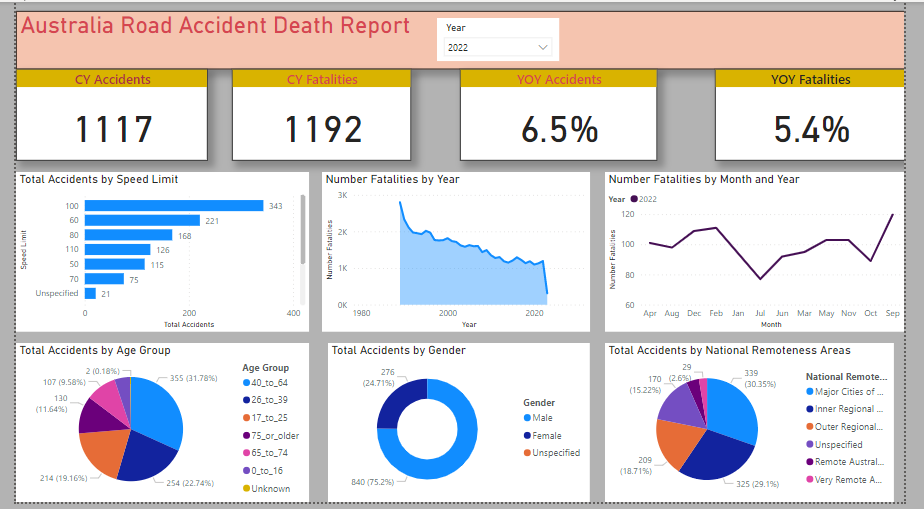

The page's visual inventory and layout, read from the dashboard file:
{"tool":"powerbi","page":{"name":"Year","canvas":[1280,720],"ordinal":0},"visuals":[{"type":"textbox","title":"Australia  Road Accident Death Report","box":[0,13.4,1280,84],"z":0},{"type":"slicer","fields":{"Values":["NewCalendar.Year"]},"box":[606.2,23,175.7,61.9],"z":1000},{"type":"card","title":"CY Accidents","fields":{"Values":["Measures (2).CY Accidents"]},"box":[0,96.5,276.5,132.5],"z":2000},{"type":"card","title":"CY Fatalities","fields":{"Values":["Measures (2).CY Fatalities"]},"box":[311,96.5,257.8,132.5],"z":3000},{"type":"card","title":"YOY Accidents","fields":{"Values":["Measures (2).YoY Accidents"]},"box":[639.4,96.5,283.7,132.5],"z":4000},{"type":"card","title":"YOY Fatalities","fields":{"Values":["Measures (2).YOY Fatalities"]},"box":[1006.6,96.5,273.6,132.5],"z":5000},{"type":"pieChart","fields":{"Category":["Australia_Fatalities_2023_V1.Age Group"],"Y":["Measures (2).Total Death"]},"box":[0,491,421.9,229],"z":6000},{"type":"barChart","fields":{"Category":["Australia_Fatalities_2023_V1.Speed Limit"],"Y":["Measures (2).Total Death"]},"box":[0,244.8,421.9,230.4],"z":7000},{"type":"lineChart","fields":{"Category":["NewCalendar.Month"],"Y":["Sum(Australia_Fatalities_2023_V1.Number Fatalities)"],"Series":["NewCalendar.Date.Variation.Date Hierarchy.Year"]},"box":[848.2,244.8,432,230.4],"z":8000},{"type":"donutChart","fields":{"Category":["Australia_Fatalities_2023_V1.Gender"],"Y":["Measures (2).Total Death"]},"box":[449.3,491,377.3,229],"z":9000},{"type":"pieChart","fields":{"Y":["Measures (2).Total Death"],"Category":["Australia_Fatalities_2023_V1.National Remoteness Areas"]},"box":[848.2,491,416.2,229],"z":10000},{"type":"areaChart","fields":{"Category":["NewCalendar.Year"],"Y":["Sum(Australia_Fatalities_2023_V1.Number Fatalities)"]},"box":[440.6,244.8,385.9,230.4],"z":11000}]}

Visuals, with their boxes in screenshot pixels (x1, y1, x2, y2), scaled from the page's 1280x720 canvas onto the 924x509 screenshot:
"Australia  Road Accident Death Report" textbox: (0, 9, 923, 69)
slicer - NewCalendar.Year: (438, 16, 564, 60)
"CY Accidents" card: (0, 68, 200, 162)
"CY Fatalities" card: (225, 68, 411, 162)
"YOY Accidents" card: (462, 68, 666, 162)
"YOY Fatalities" card: (727, 68, 923, 162)
pieChart - Australia_Fatalities_2023_V1.Age Group x Measures (2).Total Death: (0, 347, 305, 508)
barChart - Australia_Fatalities_2023_V1.Speed Limit x Measures (2).Total Death: (0, 173, 305, 336)
lineChart - NewCalendar.Month x Sum(Australia_Fatalities_2023_V1.Number Fatalities): (612, 173, 923, 336)
donutChart - Australia_Fatalities_2023_V1.Gender x Measures (2).Total Death: (324, 347, 597, 508)
pieChart - Measures (2).Total Death x Australia_Fatalities_2023_V1.National Remoteness Areas: (612, 347, 913, 508)
areaChart - NewCalendar.Year x Sum(Australia_Fatalities_2023_V1.Number Fatalities): (318, 173, 597, 336)
